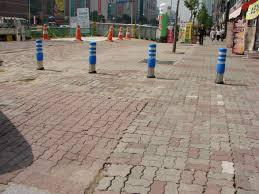Animal: (83, 27, 108, 71), (136, 42, 162, 84), (211, 39, 231, 87), (36, 19, 58, 50), (28, 34, 40, 73)
